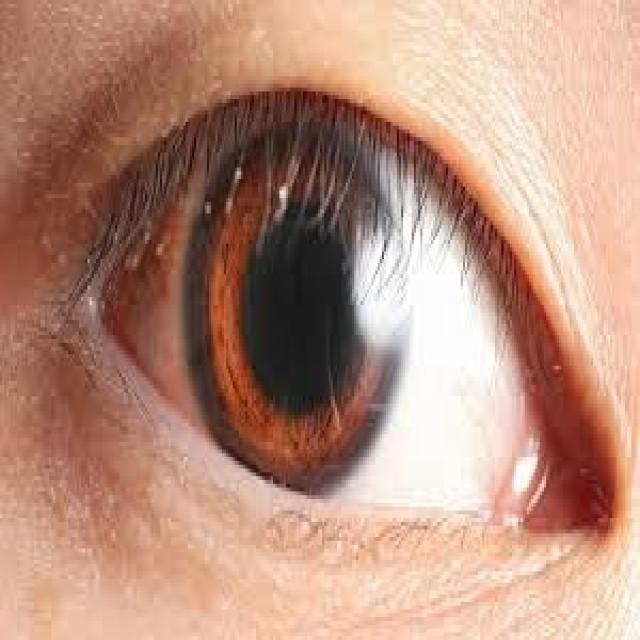Eyes-iris: (180, 118, 409, 500)
